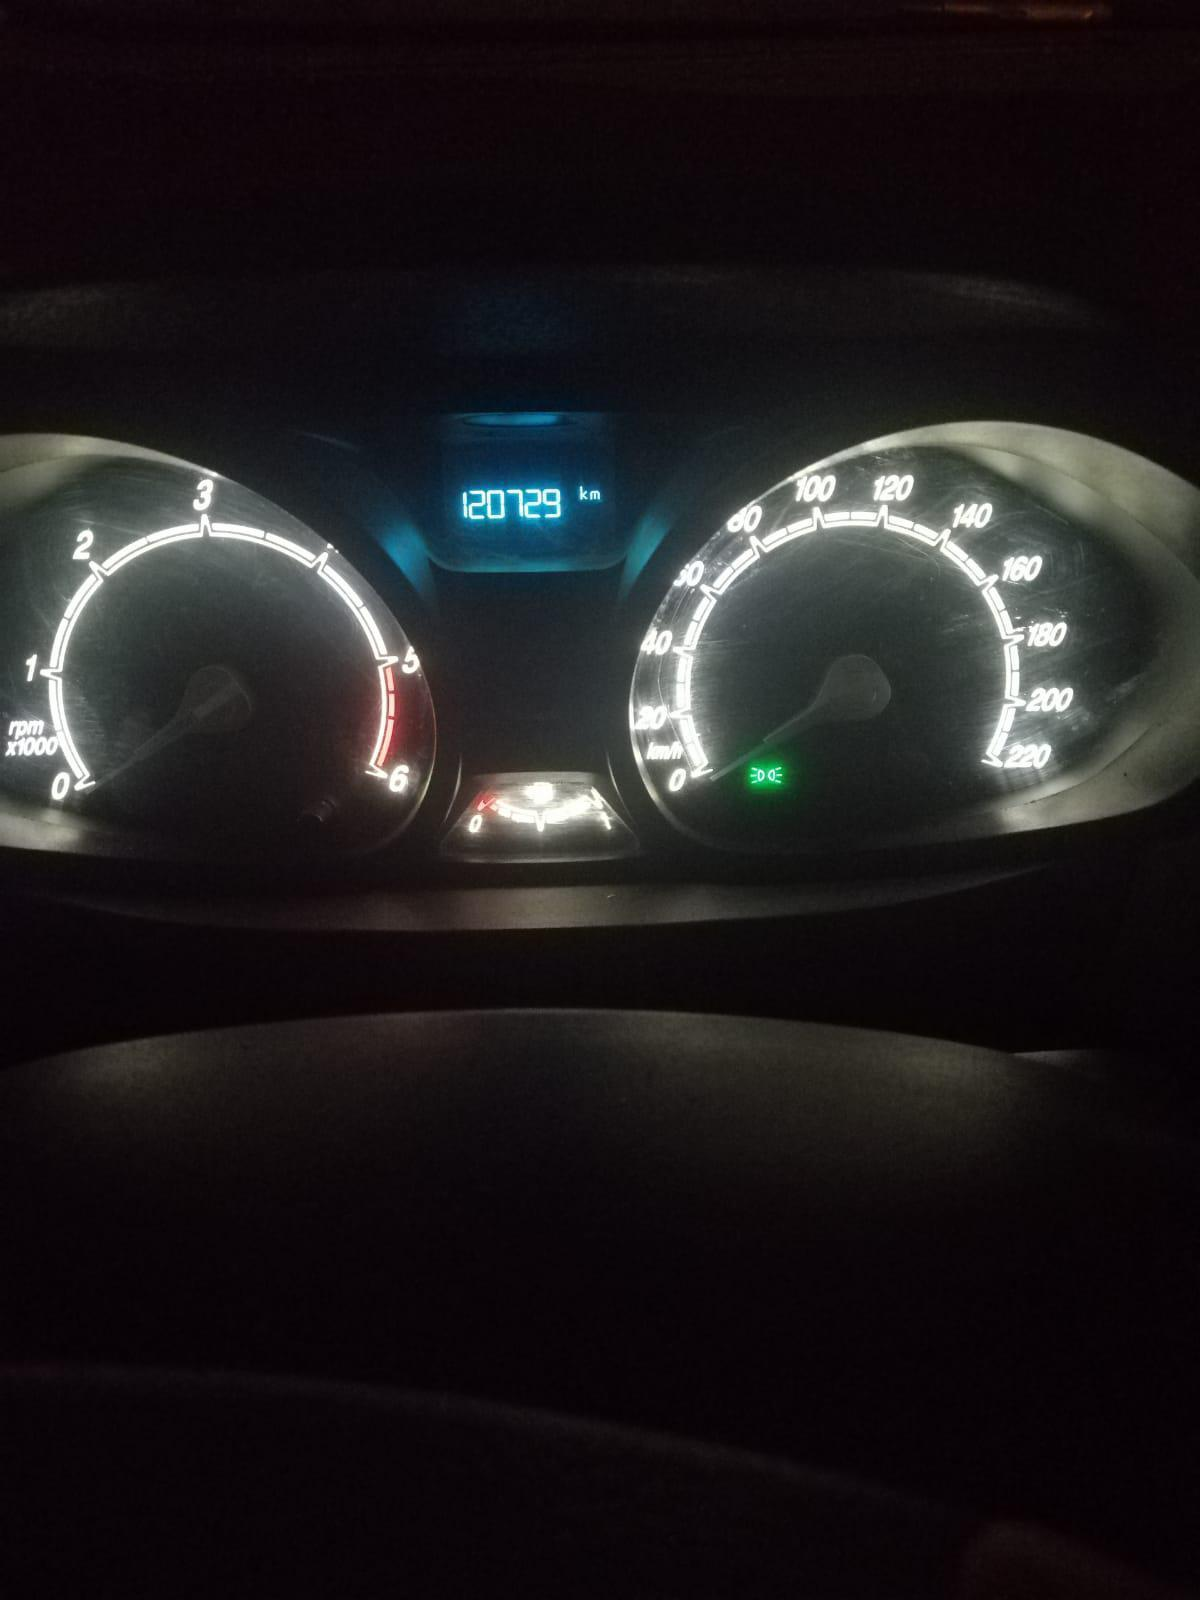0: (487, 488, 505, 519)
1: (460, 490, 468, 522)
2: (468, 488, 487, 520), (524, 486, 541, 519)
7: (505, 489, 524, 517)
9: (542, 488, 560, 519)
X: (579, 485, 589, 500), (589, 489, 600, 500)
odometer: (421, 456, 626, 568)
